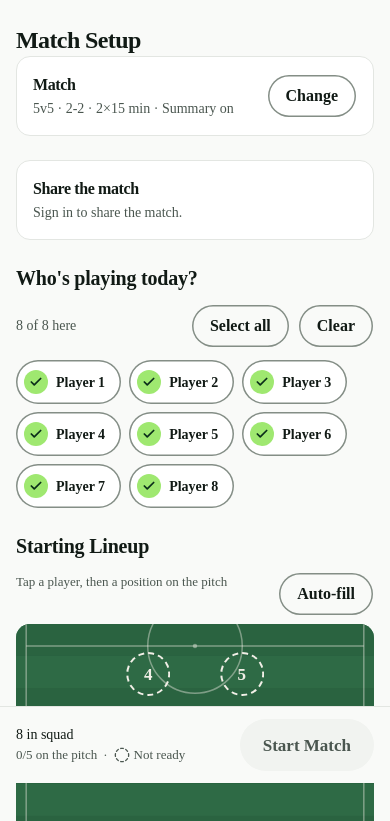
Test: MatchSetupManager attendance and preselection (U9) › says why Start is locked, in reading order and as the button's description
The image size is (390, 821).
Check: the heading "Who's playing today?" is shown, box [16, 267, 198, 289]
Click the button "Auto-fill": (326, 594) [278, 572, 374, 616]
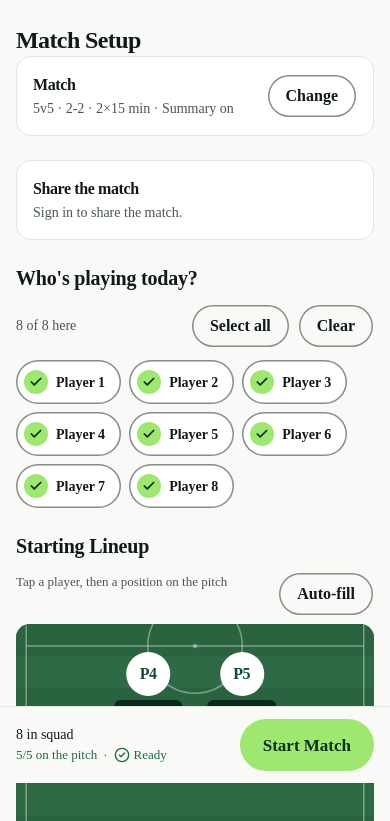
Check: the button "Start Match" is enabled, box [240, 719, 374, 771]
Check: the element showing "Ready" is shown, box [114, 745, 167, 765]
